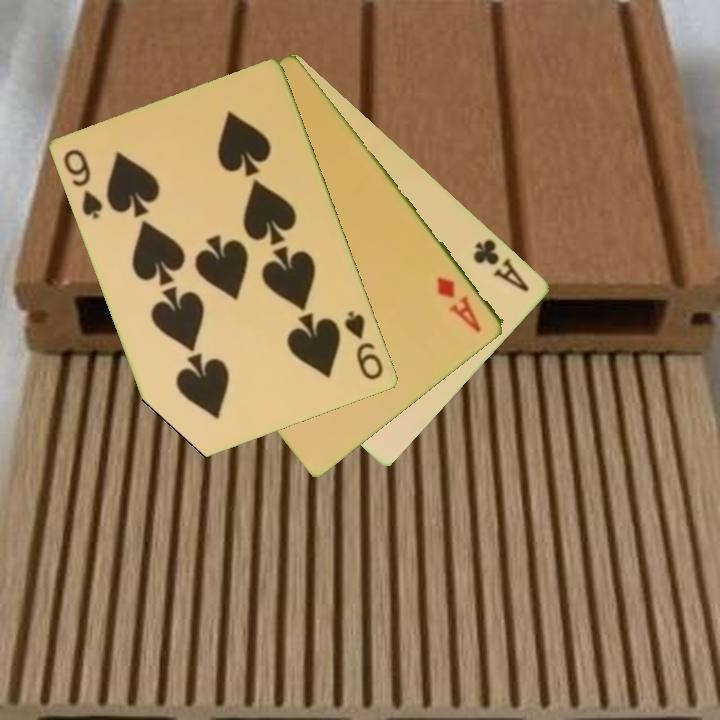9s: (341, 307, 387, 383), (60, 146, 106, 222)
Ac: (470, 235, 533, 295)
Ad: (433, 272, 485, 336)
